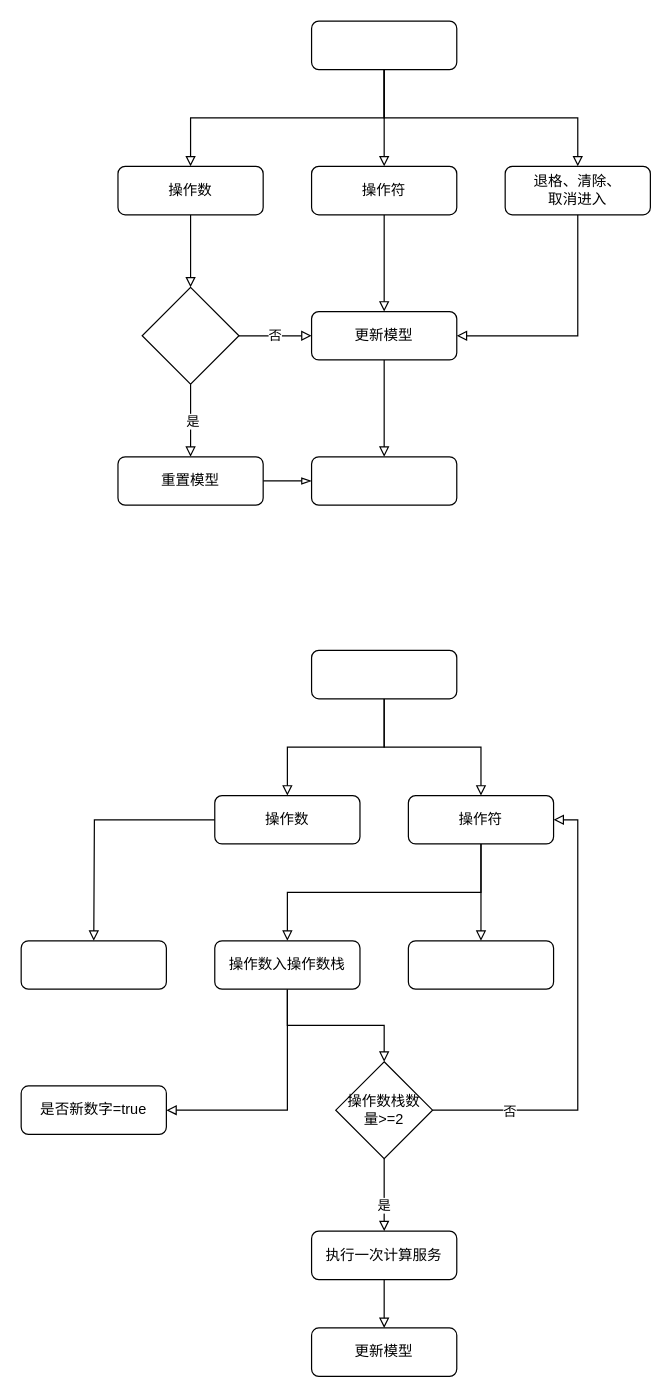
This 672x1398 diagram has some shape labels left out. Here are the shapes that lost their labels. From the top down, the box of each, then its label:
(310, 20, 457, 70): 输入的内容
(141, 286, 239, 384): 是否新数字
(310, 456, 457, 505): 更新界面
(310, 649, 457, 699): 模型变更
(20, 940, 166, 989): 是否新数字=false
(407, 940, 554, 989): 操作符入操作符栈
